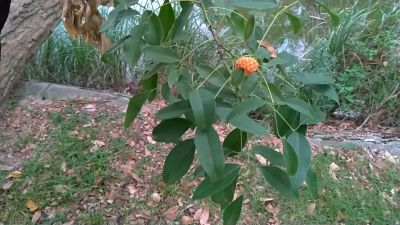eggs: (233, 56, 261, 77)
